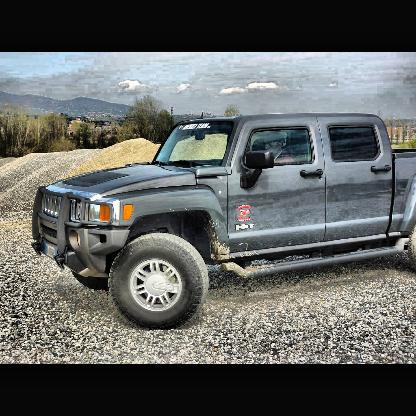HUMMER H3T Crew Cab 2010: (35, 115, 416, 330)
